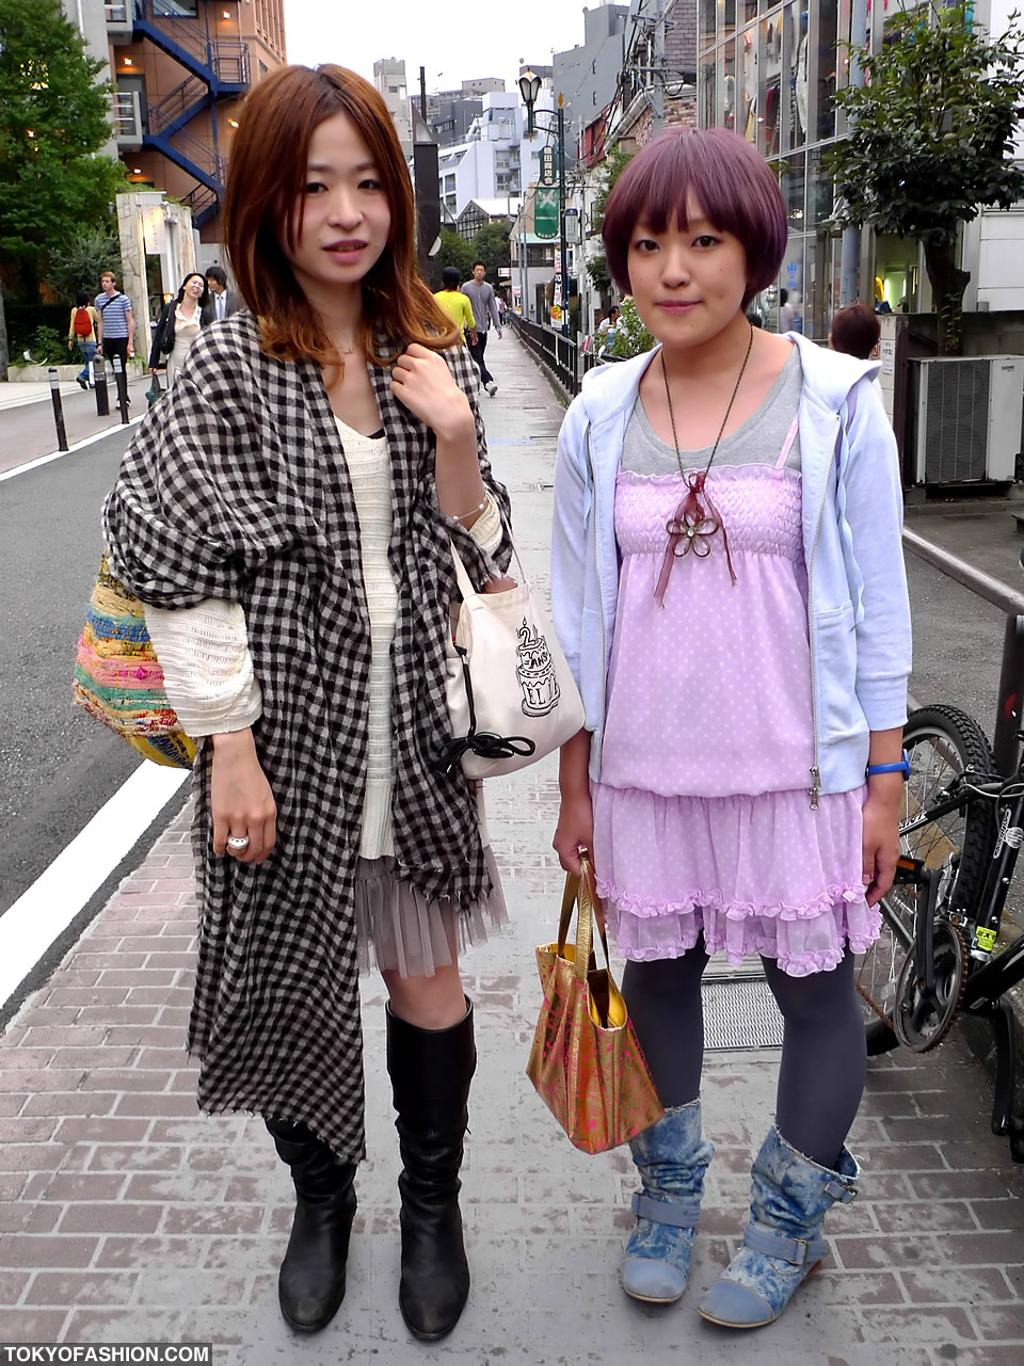face: (270, 130, 390, 281), (627, 201, 746, 349), (186, 279, 203, 296), (207, 276, 219, 291), (101, 277, 112, 290), (474, 267, 484, 279)
